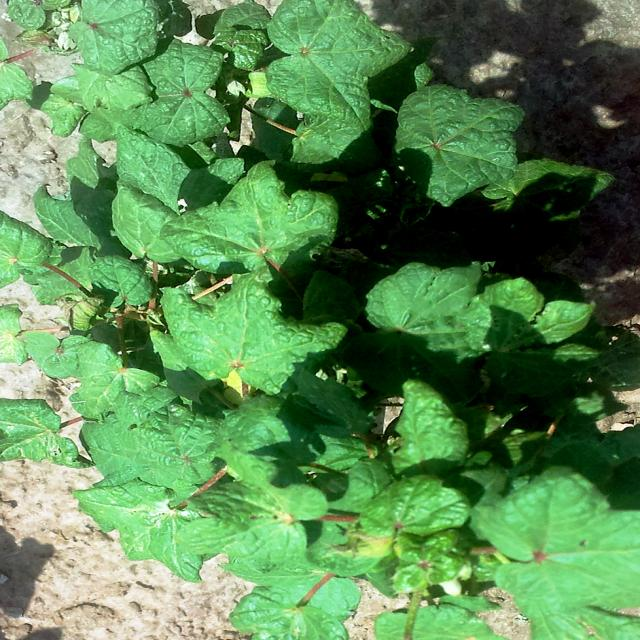Leaf Curl Virus: (106, 183, 355, 410), (78, 6, 396, 163)
